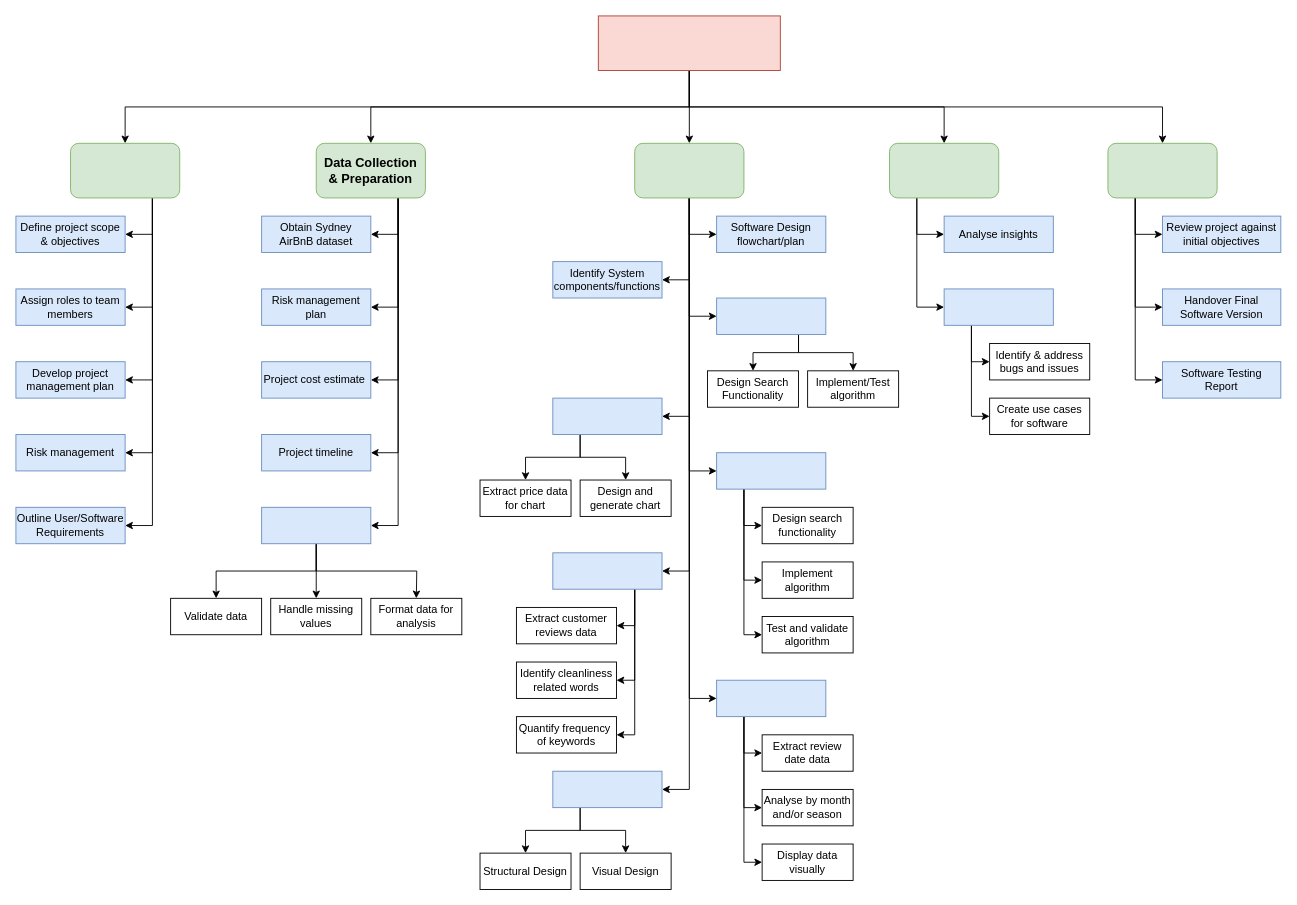
The diagram is 1297 pixels wide and 905 high, and some of its shapes have lost their labels. The centre of each missing label's shape, as x and y in pixels:
Clean and preprocess the data: the point at 316,525
Cleanliness Analysis: the point at 607,570
Closure: the point at 1162,170
Creation: the point at 689,170
Initiation: the point at 125,170
Keyword-based Search: the point at 771,470
Price Distribution task: the point at 607,416
Suburb Specific Listing information: the point at 771,315
Sydney AirBnB Data Analysis Project: the point at 688,43
Test full program functionality: the point at 998,306
Time Series Analysis: the point at 771,698
User interface design: the point at 607,789
Validation: the point at 944,170
